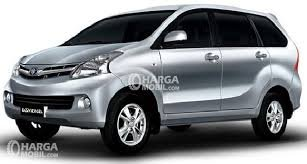mobil: (4, 1, 306, 144)
